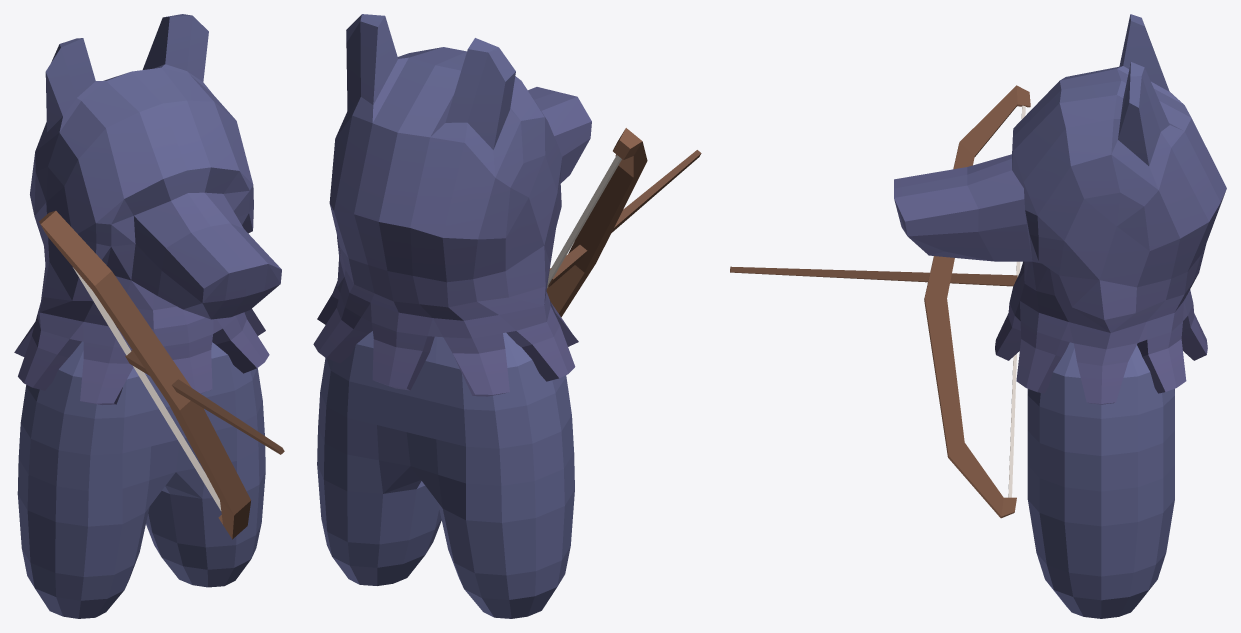
Rendered from CharacterWolf.fbx.
The picture shows the model from 3 angles, left to right: view 1: azimuth 30°, elevation 25°; view 2: azimuth 150°, elevation 25°; view 3: azimuth 270°, elevation 25°; orthographic projection. The views are drawn at different scales.
Visible parts, largest first — view 1: Hunter; view 2: Hunter; view 3: Hunter.
Boxes of the visible parts, x1=… form: Hunter: x1=14, y1=14, x2=284, y2=618; Hunter: x1=313, y1=14, x2=701, y2=618; Hunter: x1=730, y1=14, x2=1226, y2=618.
Bounding box in the file's own units: 100 × 200 × 169.
